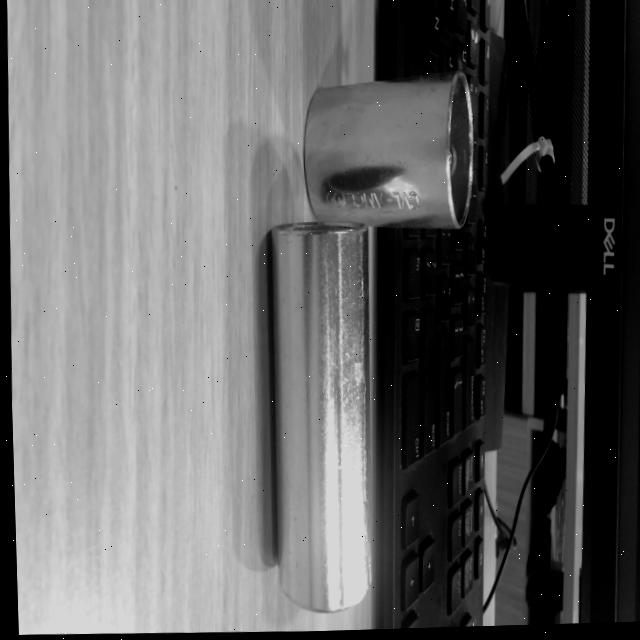Co_Lon: (268, 221, 371, 613)
Co_Nho: (302, 69, 473, 228)
